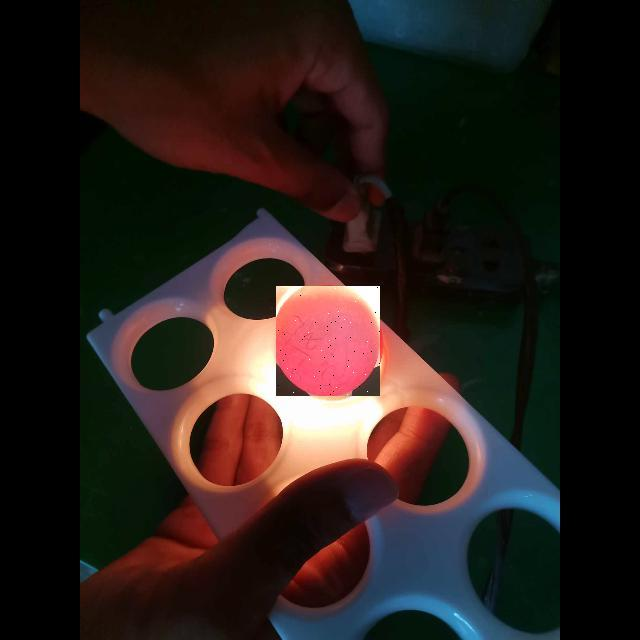Infertile: (276, 286, 380, 396)
